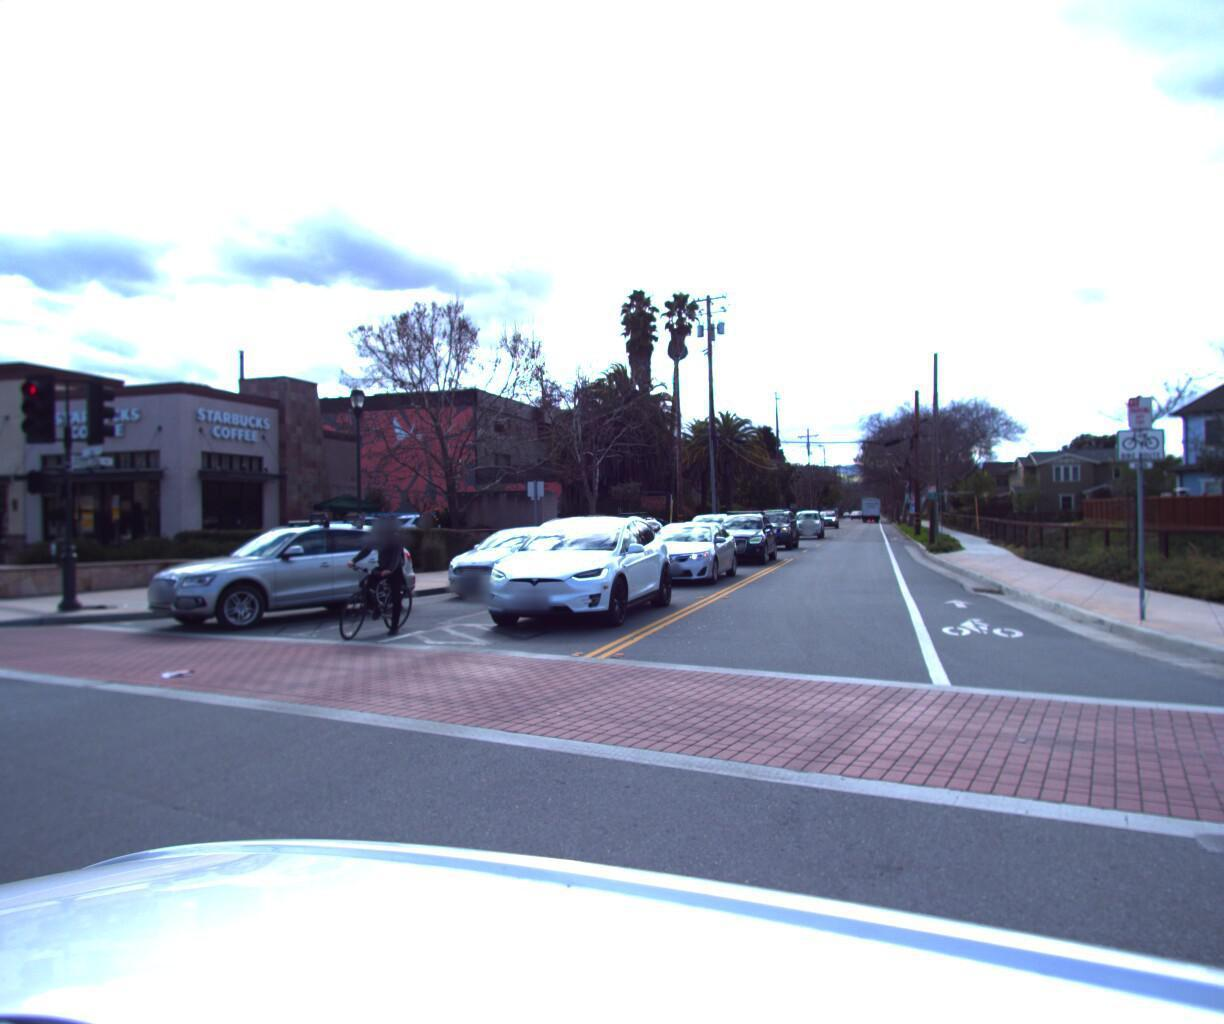bicycle: (315, 511, 439, 646)
car: (119, 518, 424, 634), (460, 499, 688, 641), (431, 522, 605, 600), (628, 517, 742, 585), (568, 508, 673, 574), (702, 507, 782, 562), (671, 509, 742, 551), (741, 501, 801, 548), (790, 505, 831, 533)
